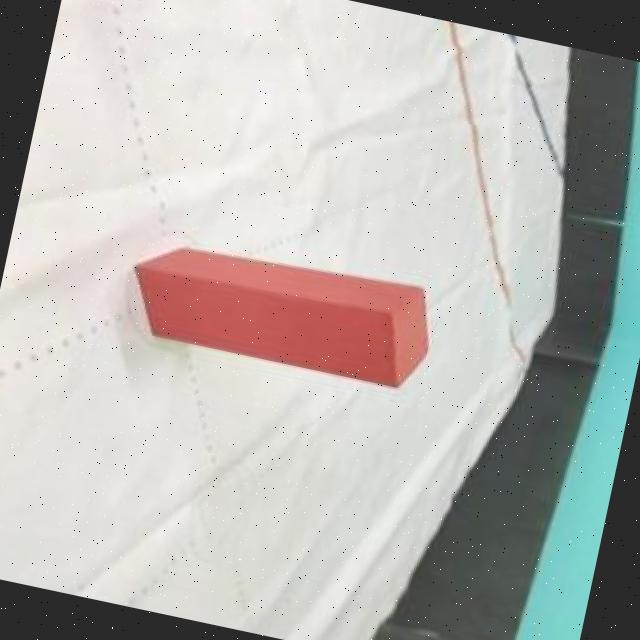redbox: (118, 225, 444, 392)
